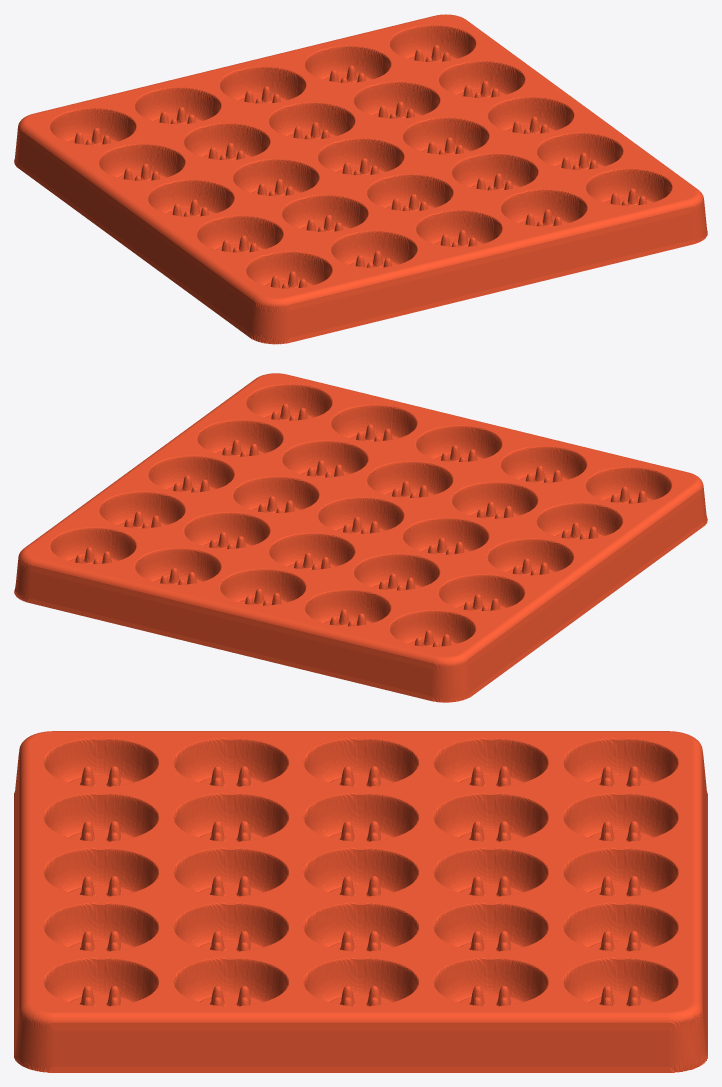
Rendered from mold.glb.
The picture shows the model from 3 angles, top to bottom: view 1: azimuth 30°, elevation 25°; view 2: azimuth 150°, elevation 25°; view 3: azimuth 270°, elevation 25°; orthographic projection. The views are drawn at different scales.
Visible parts, largest first — view 1: geometry_0; view 2: geometry_0; view 3: geometry_0.
Part boxes in pixels (x1=…): geometry_0: x1=14, y1=14, x2=707, y2=344; geometry_0: x1=14, y1=373, x2=707, y2=702; geometry_0: x1=14, y1=731, x2=707, y2=1072.
Size of the model in its own units: 0.1584 by 0.0136 by 0.1584.
